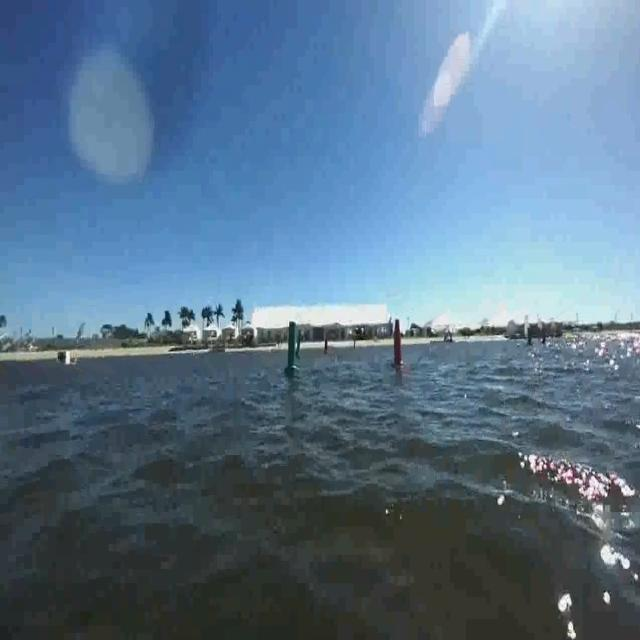green-column-buoy: (284, 320, 302, 376)
red-column-buoy: (390, 319, 406, 372)
